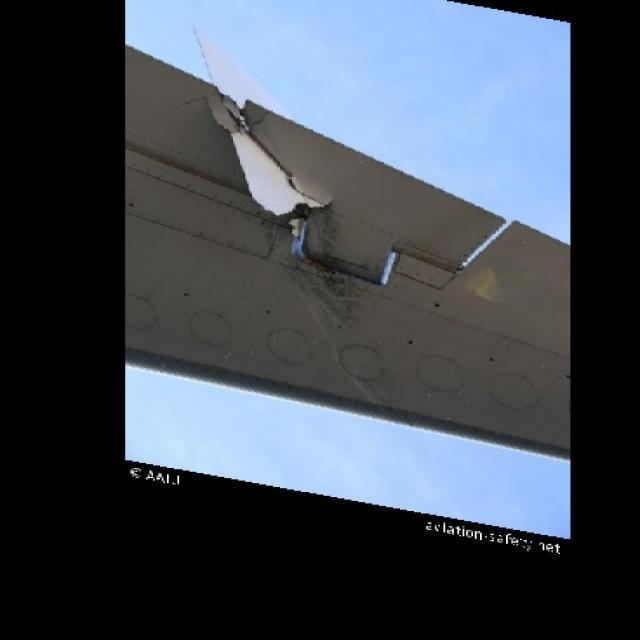crack: (182, 92, 347, 223)
